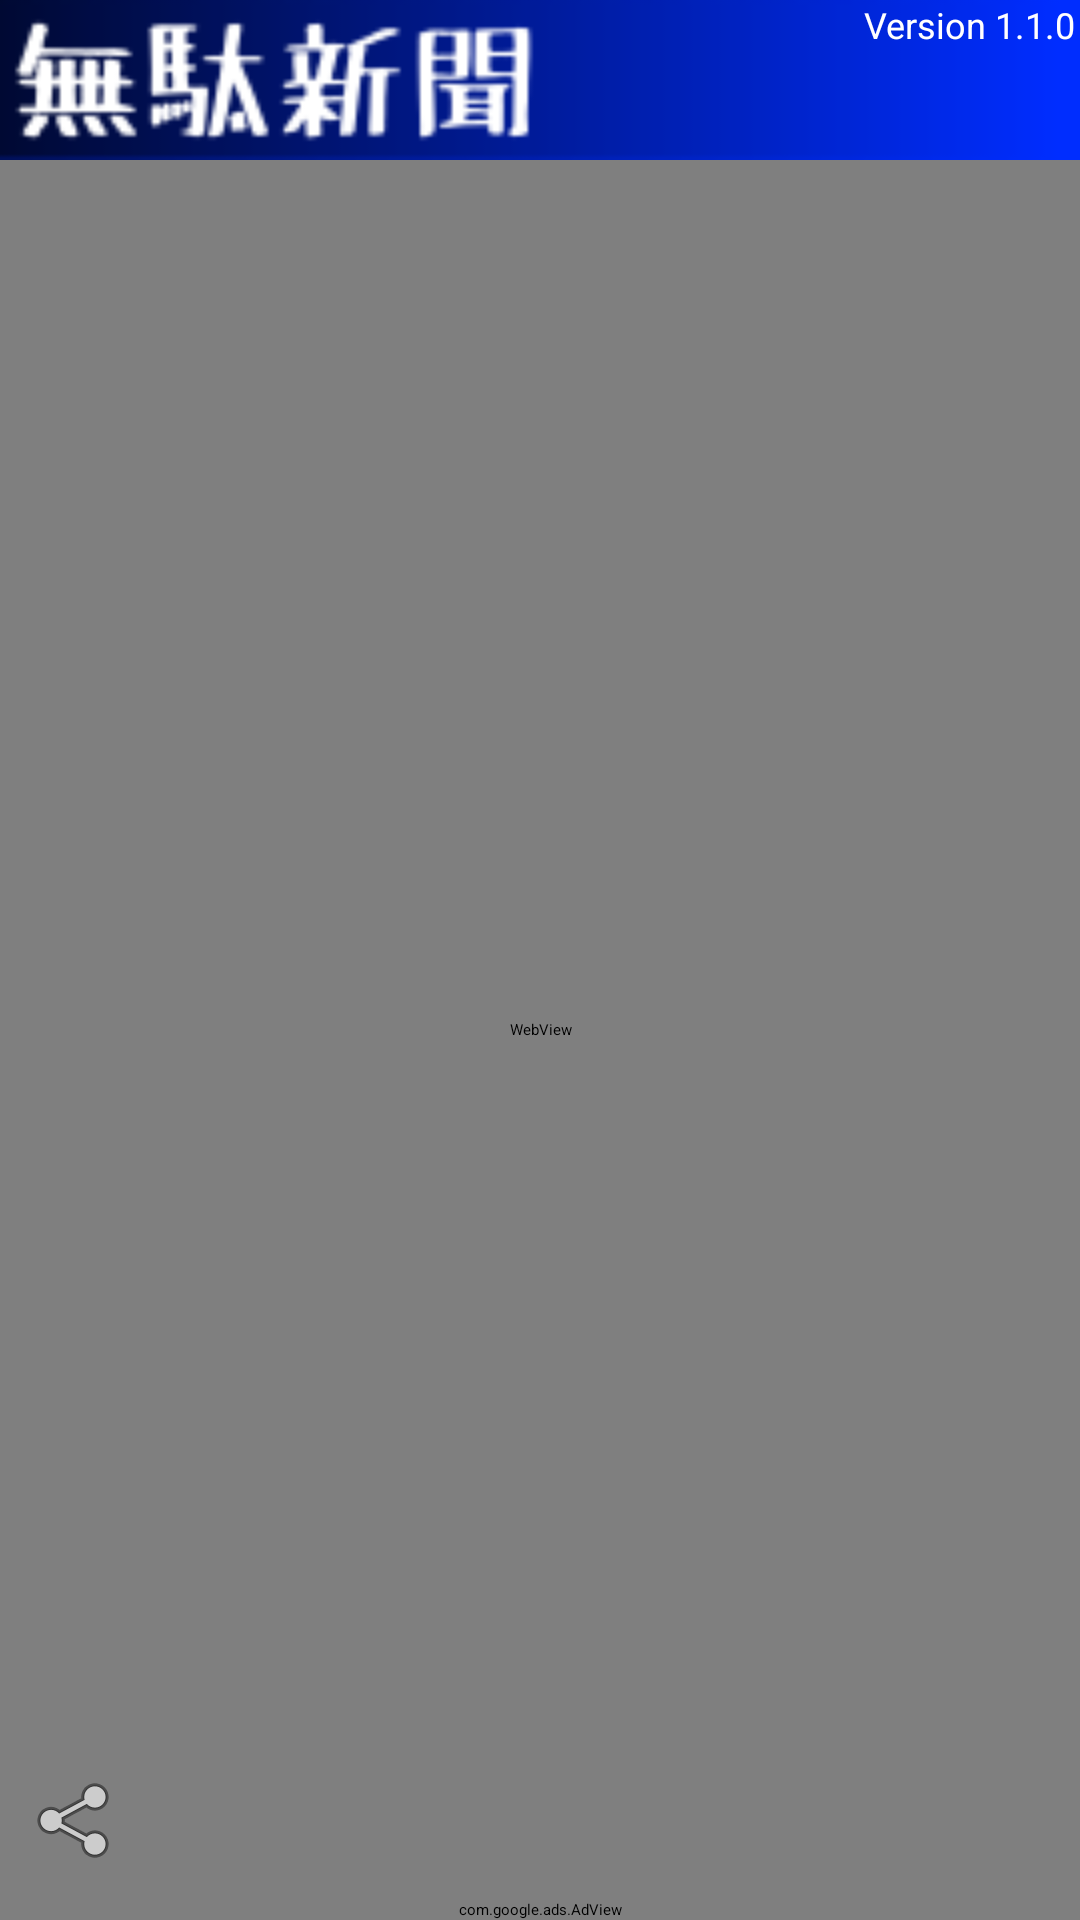

Icon bounding boxes for this 1080×1920 phone screenshot, format (x1, y1, x2, y2):
Share: (37, 1783, 109, 1858)
